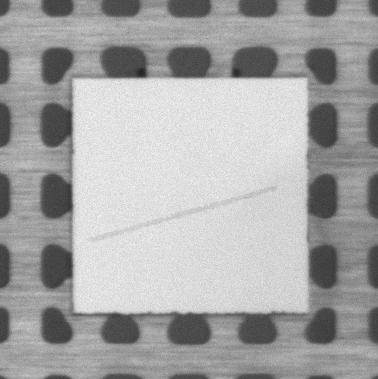DIE_CRACK: (91, 188, 275, 241)
